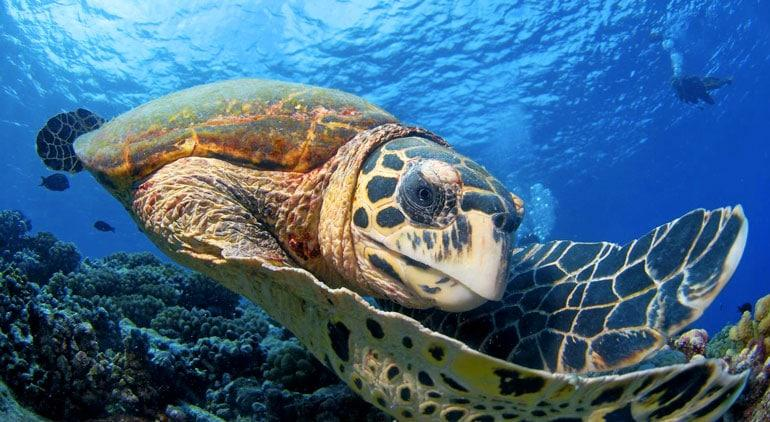turtle: (341, 120, 530, 325)
